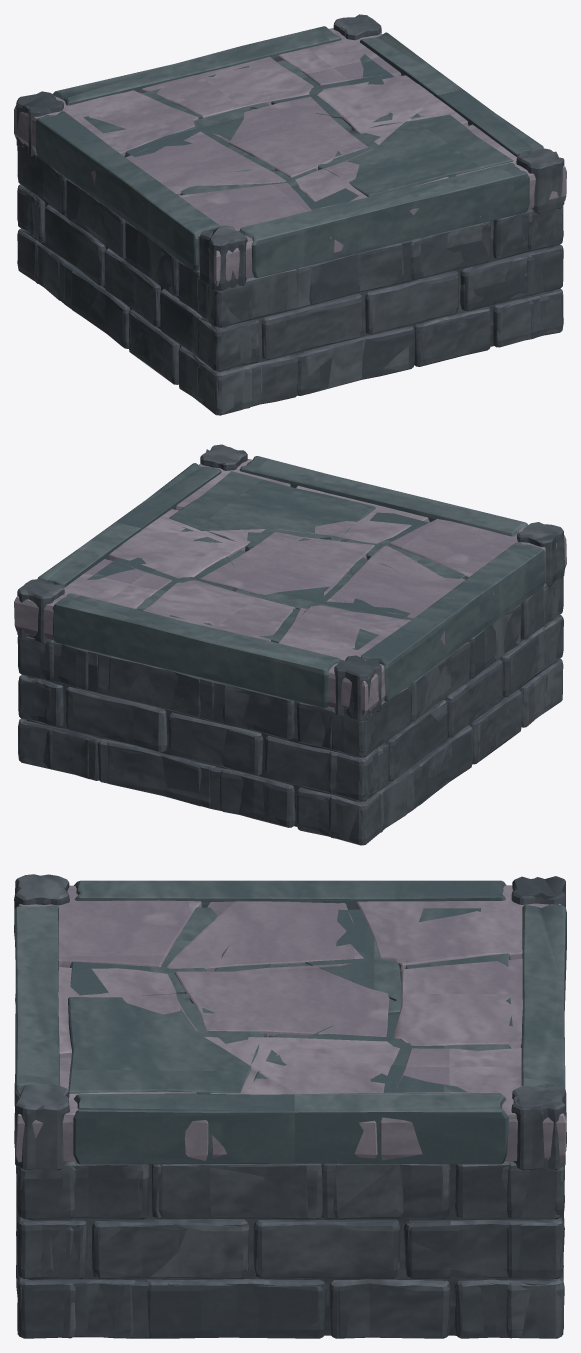
Rendered from chapter2_tiles.glb.
3 renders of one model, top to bottom at view 1: azimuth 30°, elevation 25°; view 2: azimuth 150°, elevation 25°; view 3: azimuth 270°, elevation 25°, orthographic. The views are drawn at different scales.
Visible parts, largest first — view 1: chapter2_build_tile_surface, chapter2_path_tile_surface; view 2: chapter2_build_tile_surface, chapter2_path_tile_surface; view 3: chapter2_build_tile_surface, chapter2_path_tile_surface.
Part boxes in pixels (bbox=[...]): chapter2_build_tile_surface: bbox=[16, 14, 564, 414]; chapter2_path_tile_surface: bbox=[14, 28, 566, 415]; chapter2_build_tile_surface: bbox=[17, 444, 564, 845]; chapter2_path_tile_surface: bbox=[14, 459, 566, 845]; chapter2_build_tile_surface: bbox=[14, 874, 566, 1338]; chapter2_path_tile_surface: bbox=[15, 885, 566, 1338].
Size of the model in its own units: 0.9914 by 0.4719 by 0.9901.
Materials: 3 (3 with a texture image).
